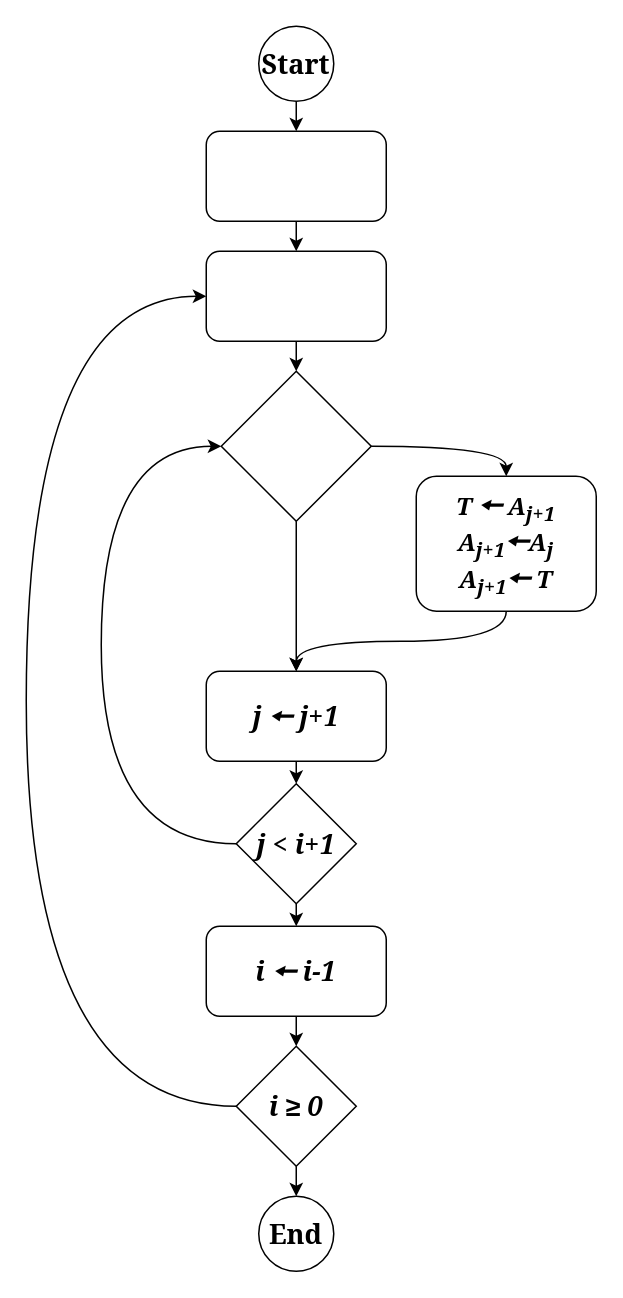
Image size: 623x1298. Some labels were removed from this diagram. Here are the shapes that lost their labels. From the top down, the centre of each, then its label:
At (295,175): "i 🠔 N".
At (295,295): "j 🠔 0".
At (295,445): "A j > A j+1".
